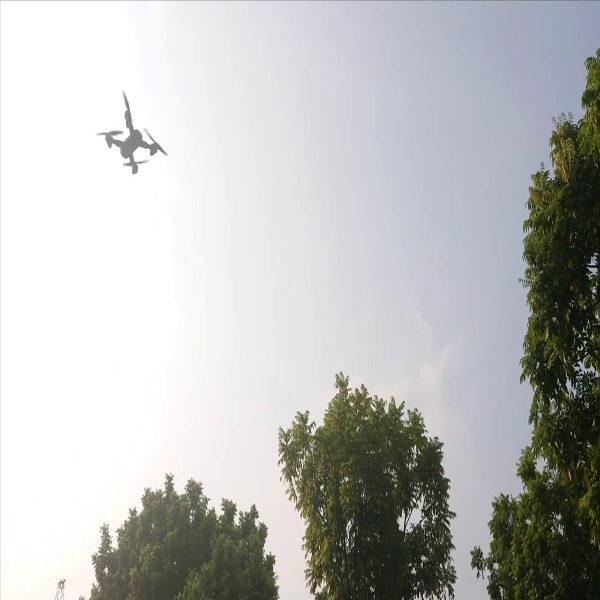drone: (87, 85, 169, 183)
